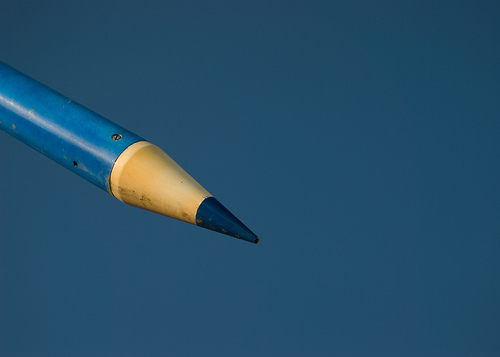pen_tip: (99, 108, 280, 263)
